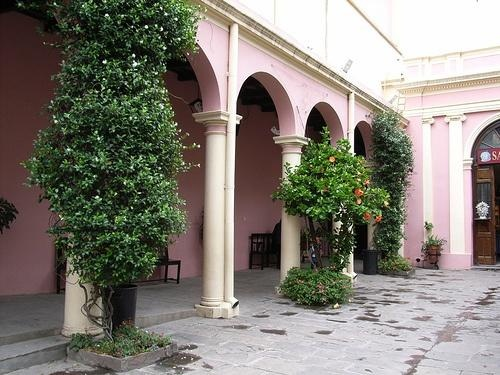pottedplant: (422, 220, 444, 272)
